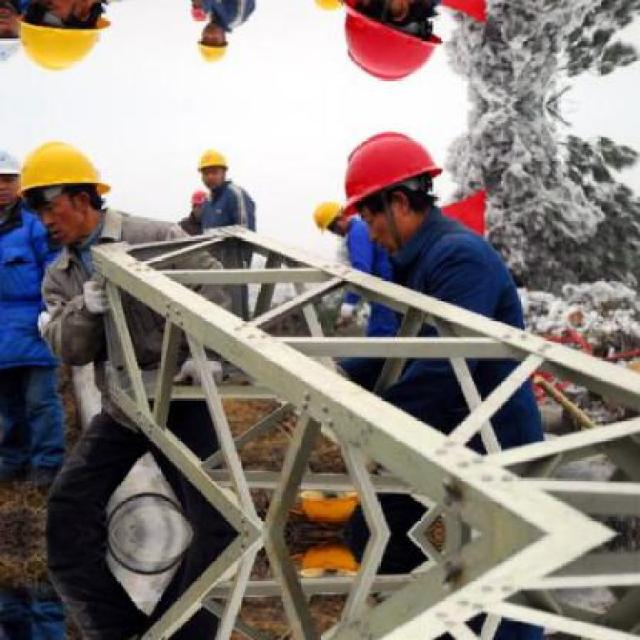helmet: (330, 119, 452, 250), (17, 129, 121, 243), (329, 0, 454, 91), (17, 0, 123, 82), (308, 196, 354, 238), (194, 141, 231, 188), (194, 21, 231, 68), (0, 0, 25, 68), (1, 143, 24, 214), (308, 0, 355, 14)
